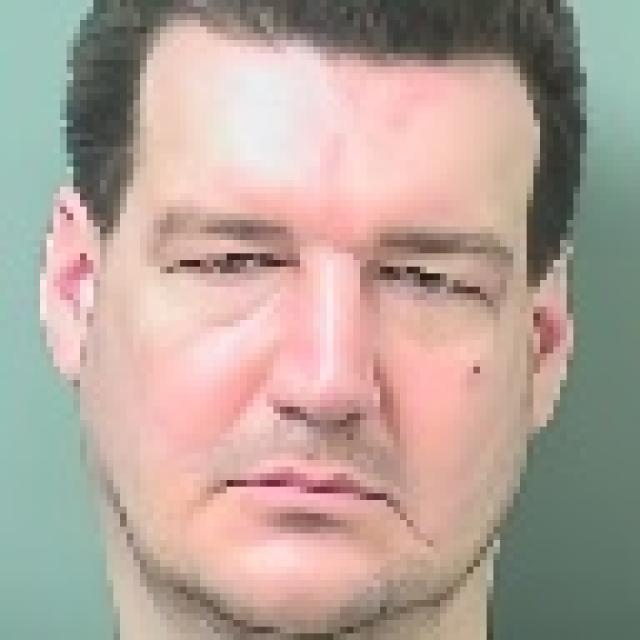sad: (60, 13, 527, 640)
